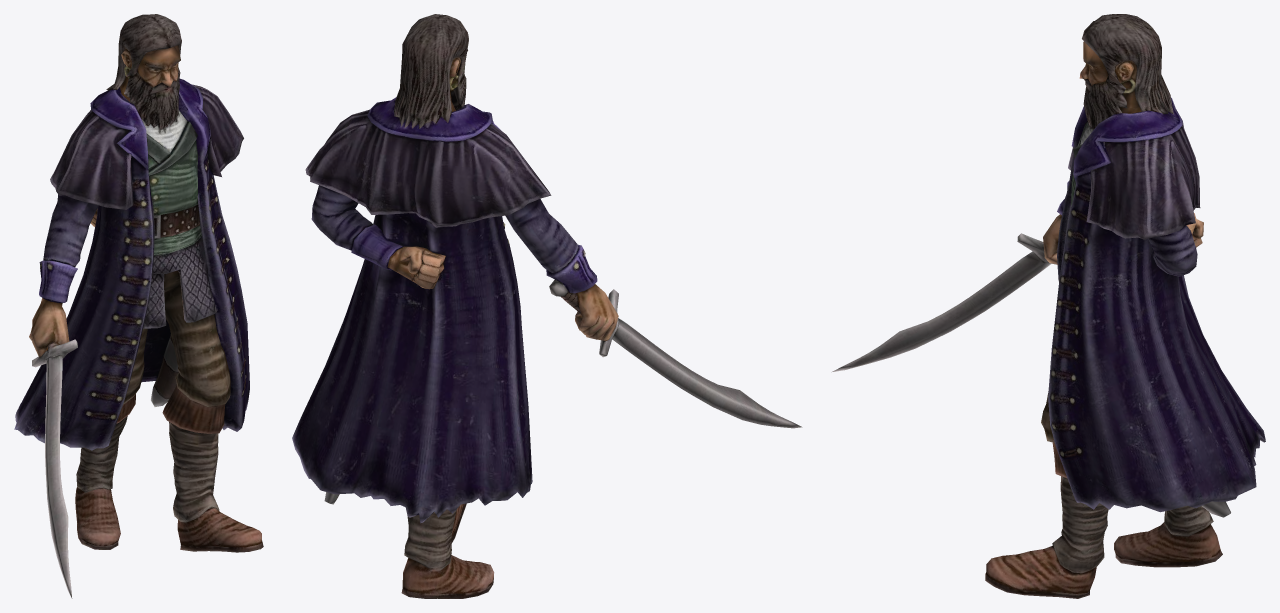
File: MZ4250 - Bandit Captain Male 03.glb
3 renders of one model, left to right at view 1: azimuth 30°, elevation 25°; view 2: azimuth 150°, elevation 25°; view 3: azimuth 270°, elevation 25°, orthographic. The views are drawn at different scales.
Visible parts, largest first — view 1: BanditCaptainMale01; view 2: BanditCaptainMale01; view 3: BanditCaptainMale01.
Boxes of the visible parts, x1,y1,x2,y2 form: BanditCaptainMale01: [14, 14, 263, 598]; BanditCaptainMale01: [292, 14, 802, 598]; BanditCaptainMale01: [831, 14, 1265, 598].
Bounding box in the file's own units: 0.6784 × 1.06 × 0.7359.
1 material, 1 textured.
